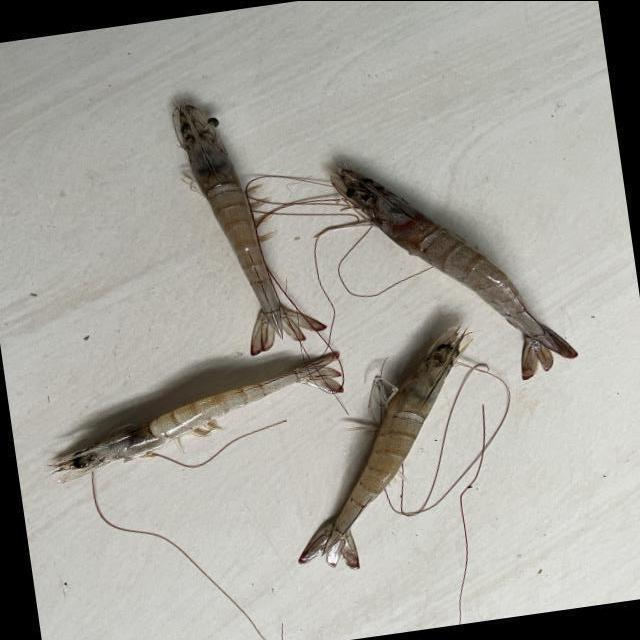shrimp: (332, 167, 579, 379), (299, 326, 473, 568), (173, 102, 326, 354), (49, 352, 343, 482)
